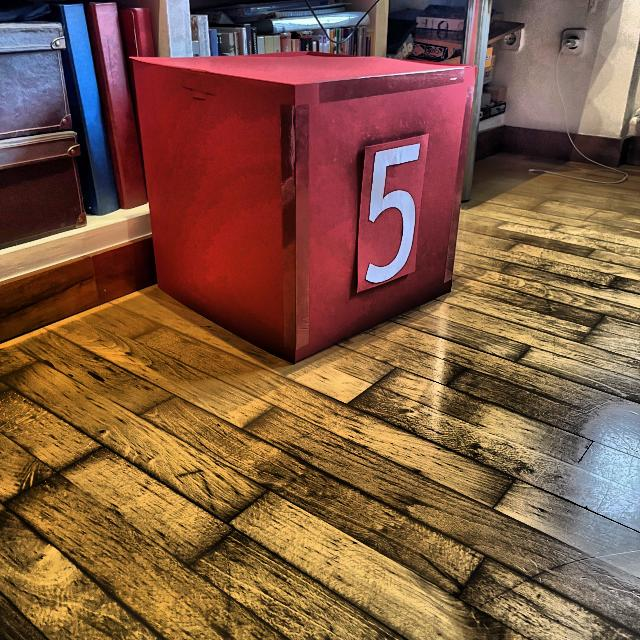five: (358, 140, 424, 284)
red box: (135, 54, 478, 364)
